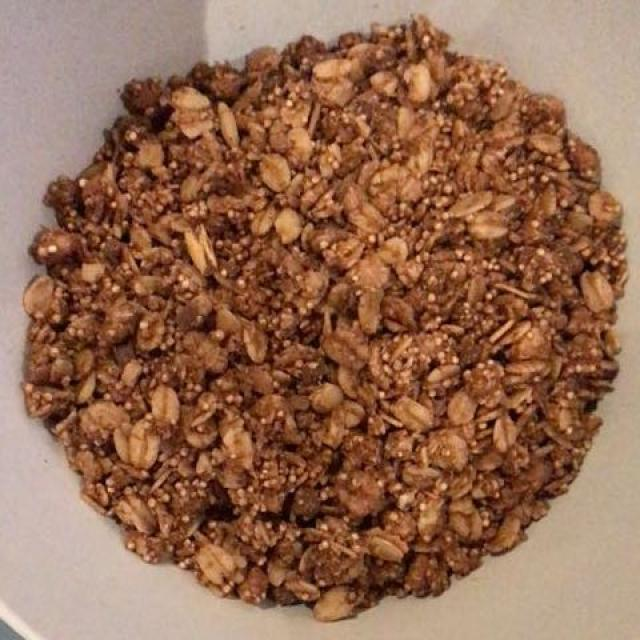crunch-muesli: (29, 23, 618, 607)
